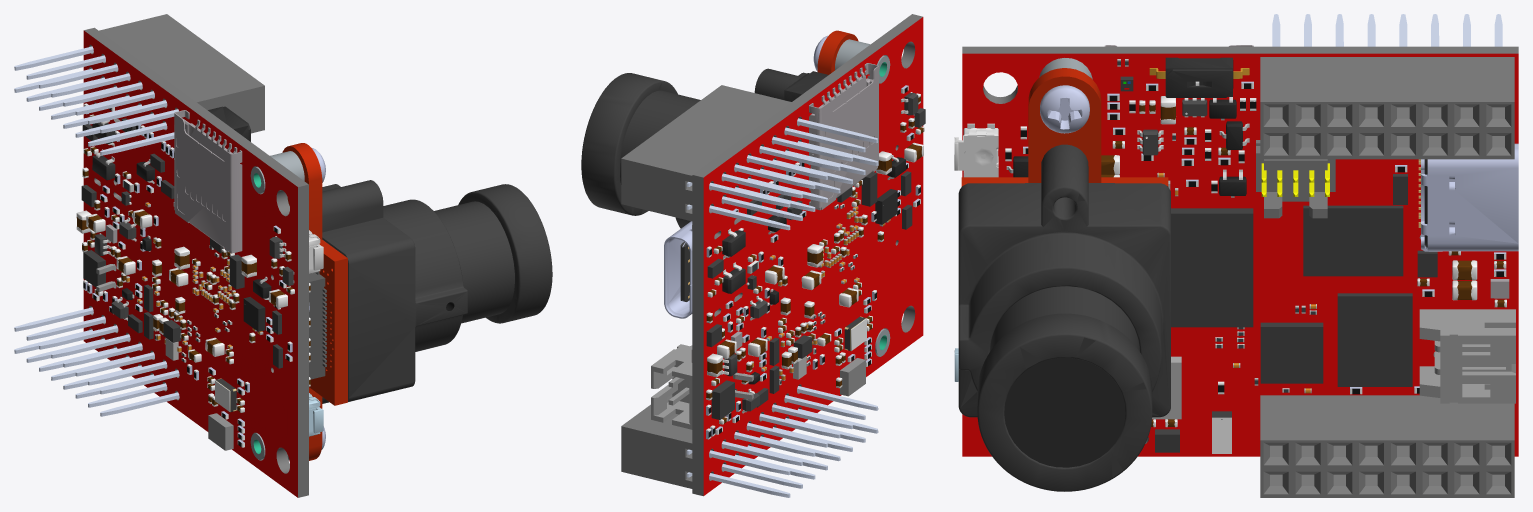
The model's file is sensor.obj.
3 views of the same model, side by side, from view 1: azimuth 30°, elevation 25°; view 2: azimuth 150°, elevation 25°; view 3: azimuth 270°, elevation 25° (orthographic). The views are drawn at different scales.
Parts seen in each view (by area): view 1: Доставщик_09.10_Камера_N6_v2; view 2: Доставщик_09.10_Камера_N6_v2; view 3: Доставщик_09.10_Камера_N6_v2.
Boxes of the visible parts, x1,y1,x2,y2 form: Доставщик_09.10_Камера_N6_v2: [14, 14, 552, 497]; Доставщик_09.10_Камера_N6_v2: [581, 14, 925, 497]; Доставщик_09.10_Камера_N6_v2: [954, 14, 1518, 497].
Size of the model in its own units: 40.44 by 35.82 by 45.08.
